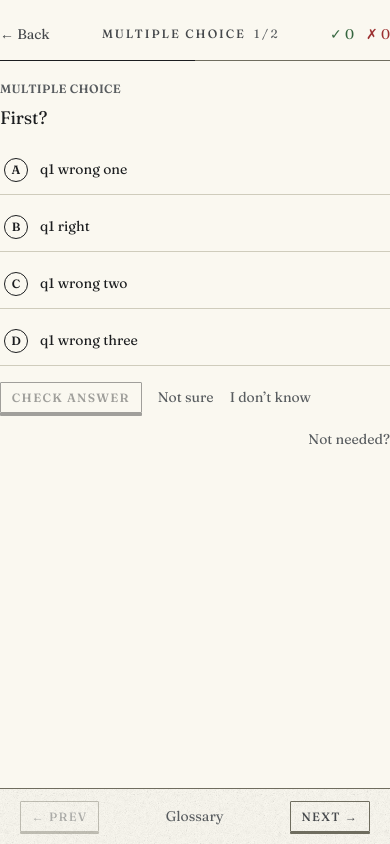
it: the glossary on a phone › sits between Prev and Next, shut until the answer is in, and opens as a sheet
The width and height of the screenshot is (390, 844).
Expected: the button "Glossary" is disabled, 166,806 -> 224,827
Click the radio button labelled "B q1 right". click: (65, 226)
box: 0,203 -> 389,252
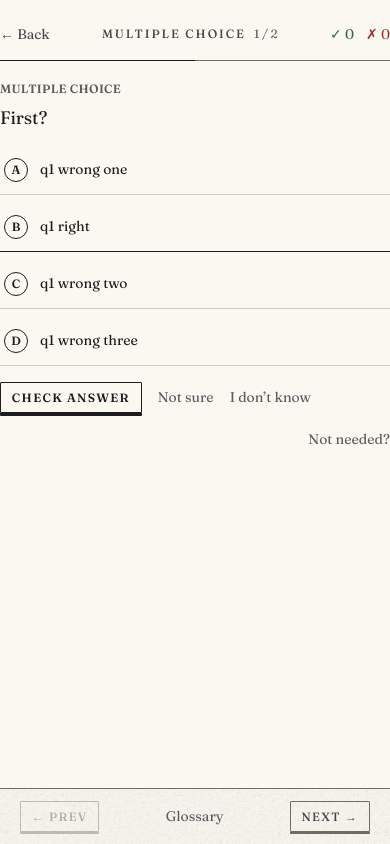
Click the button "Check answer". click: (71, 398)
box: 0,382 -> 142,414
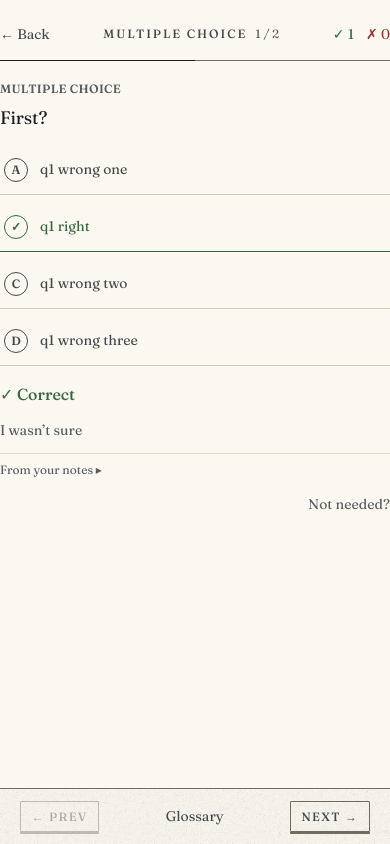
Click the button "Glossary". click: (195, 816)
box: 166,806 -> 224,827
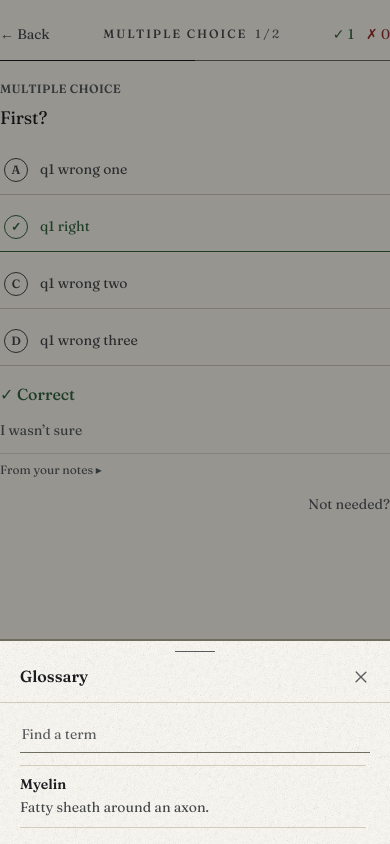
Expected: the dialog "Glossary" is shown
Expected: the text "Fatty sheath around an axon." is shown, 20,798 -> 209,816
